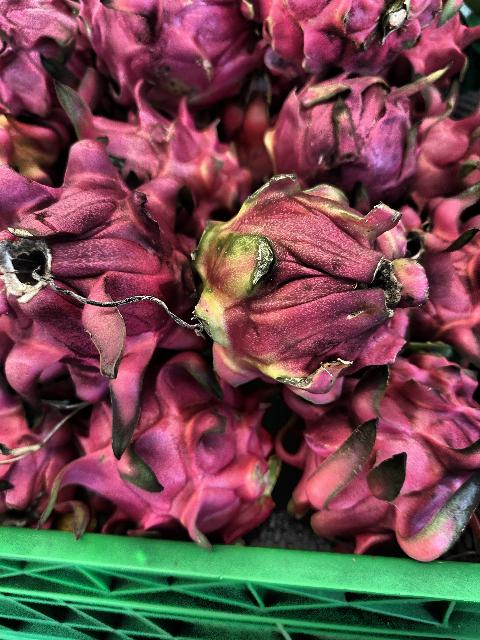buah-naga-belum-matang: (175, 184, 437, 408), (56, 82, 253, 218), (259, 72, 427, 208)
buah-naga-matang: (0, 172, 194, 422), (274, 363, 480, 572), (73, 361, 277, 549), (64, 0, 268, 110), (263, 0, 440, 94)
